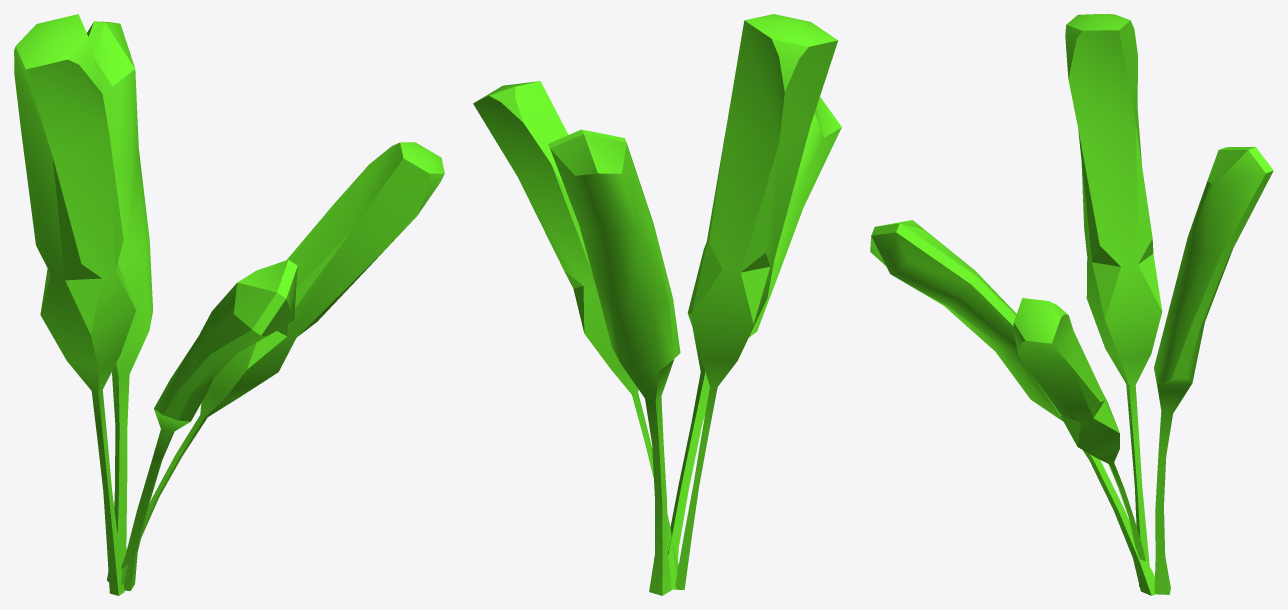
The model's file is SM_Flower_4.FBX.
3 views of the same model, side by side, from view 1: azimuth 30°, elevation 25°; view 2: azimuth 150°, elevation 25°; view 3: azimuth 270°, elevation 25° (orthographic). The views are drawn at different scales.
Parts seen in each view (by area): view 1: 4; view 2: 4; view 3: 4.
Part boxes in pixels (bbox=[...]): 4: bbox=[14, 14, 444, 595]; 4: bbox=[473, 14, 841, 595]; 4: bbox=[870, 14, 1273, 595].
Size of the model in its own units: 5.29 by 7.6 by 5.2.
